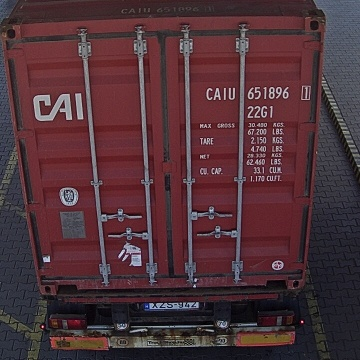serial_id: (206, 85, 310, 100)
